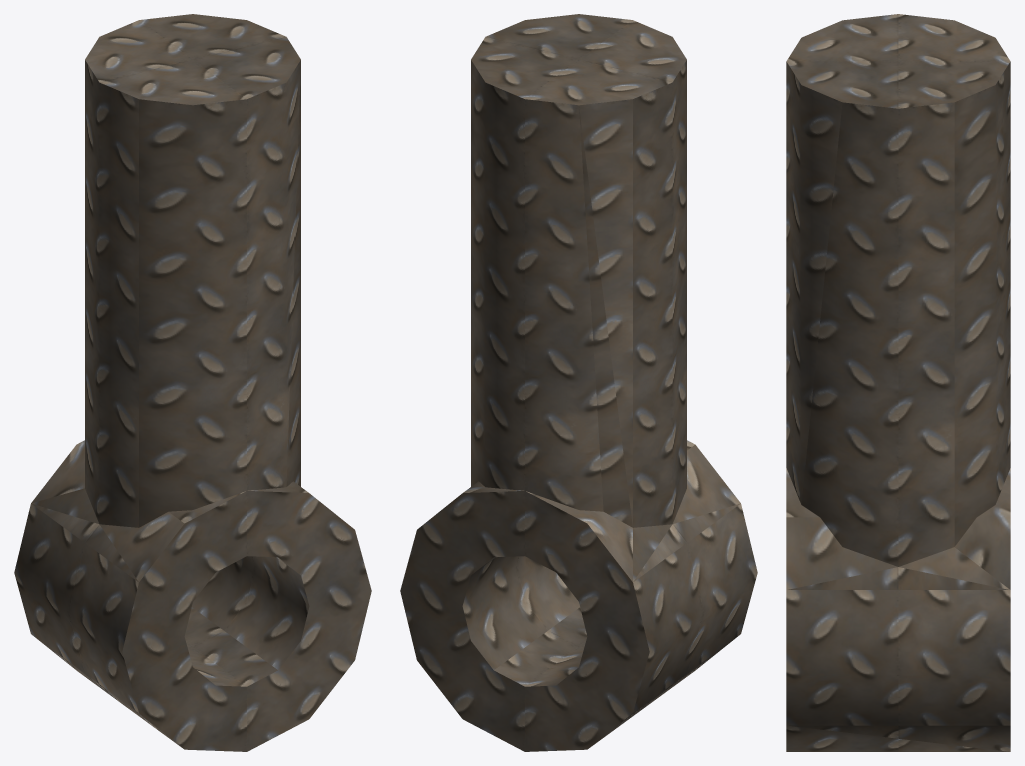
Rendered from lower_leg.obj.
3 views of the same model, side by side, from view 1: azimuth 30°, elevation 25°; view 2: azimuth 150°, elevation 25°; view 3: azimuth 270°, elevation 25° (orthographic). The views are drawn at different scales.
Parts seen in each view (by area): view 1: mergedBlocks; view 2: mergedBlocks; view 3: mergedBlocks.
Part boxes in pixels (x1,y1,x2,y2): mergedBlocks: [14, 14, 371, 751]; mergedBlocks: [400, 14, 757, 751]; mergedBlocks: [786, 14, 1010, 751].
Bounding box in the file's own units: 0.4 × 1 × 0.3.
1 material, 1 textured.
